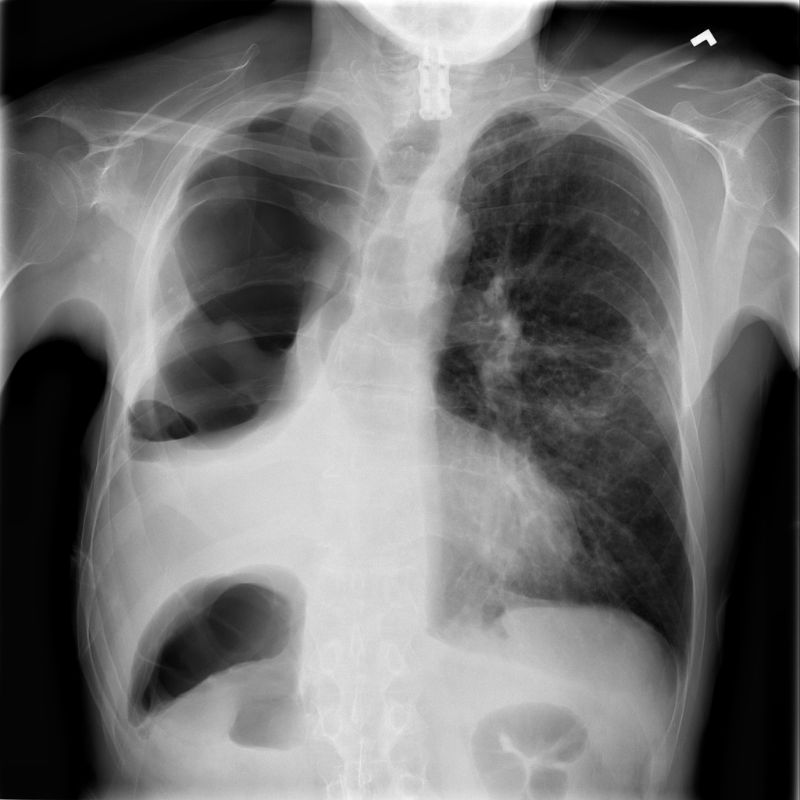PLEURAL EFFUSION: (94, 408, 238, 571)
